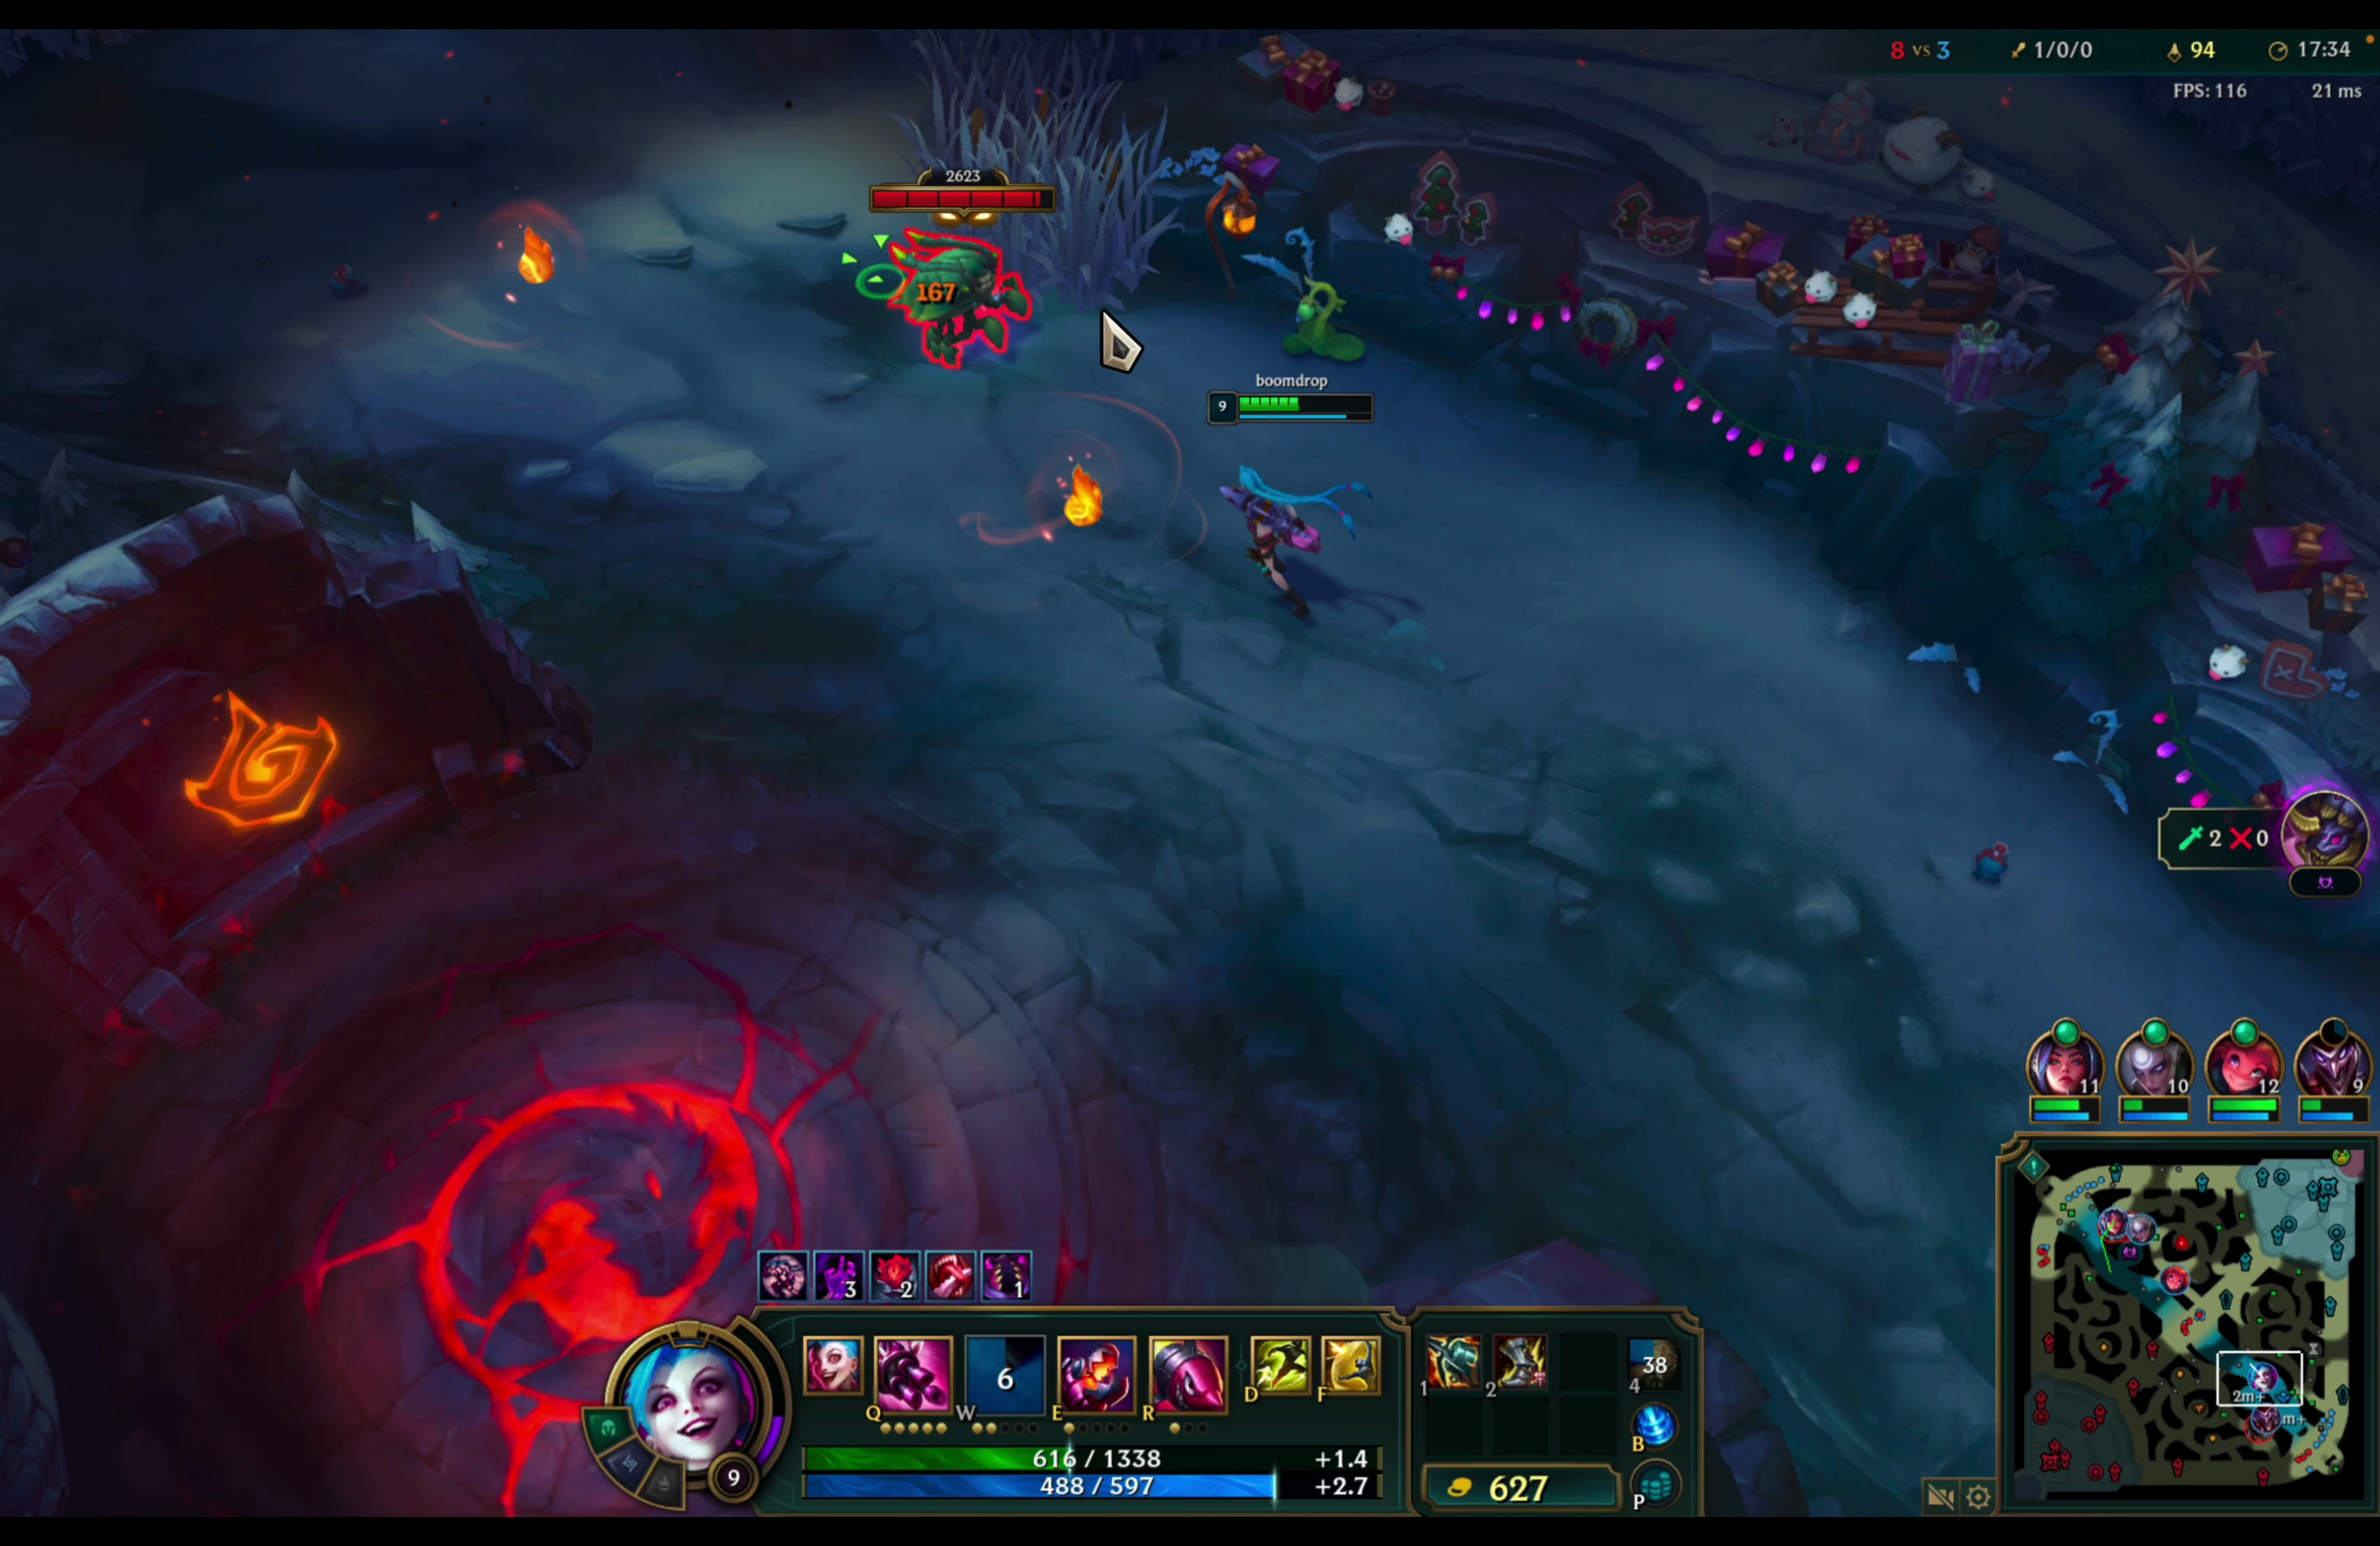LABEL_W_IMPACT: (777, 102, 1053, 378)
